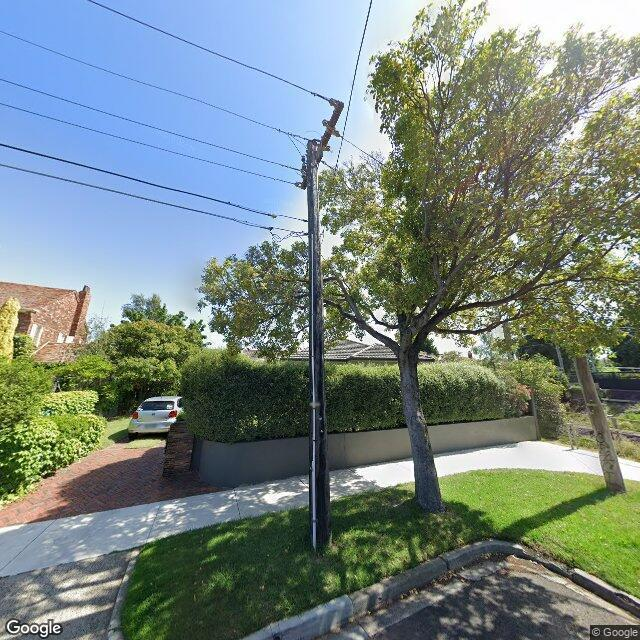crossarm: (301, 101, 344, 190)
timber-pole: (307, 140, 330, 548)
